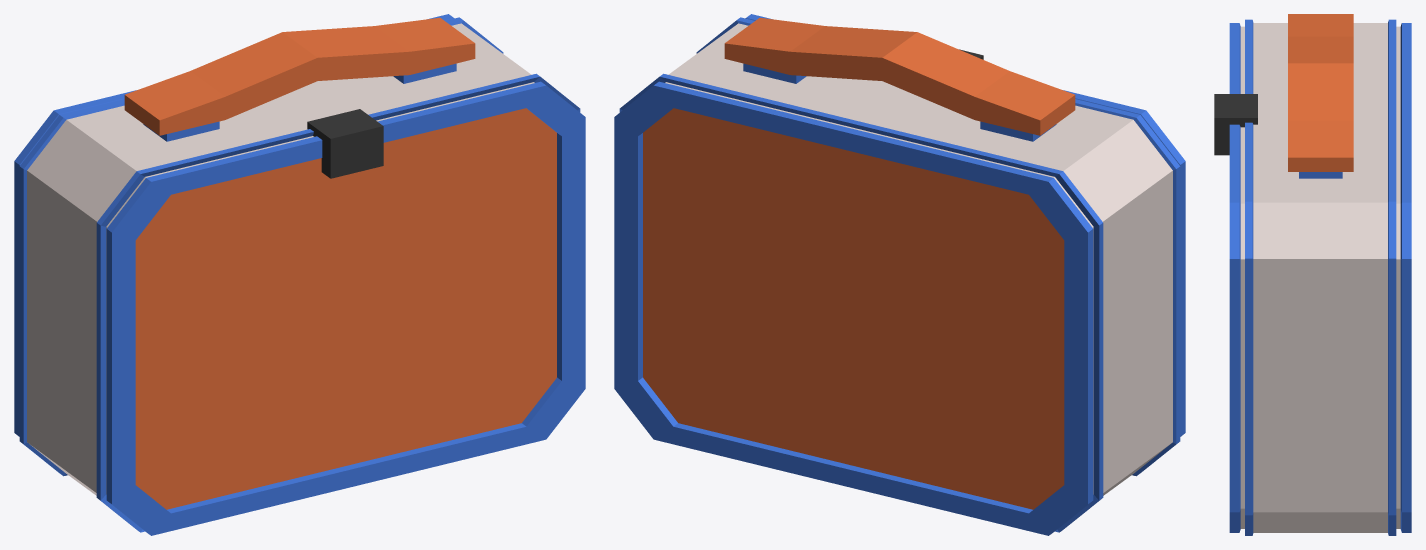
The model's file is lunchbox.fbx.
The picture shows the model from 3 angles, left to right: view 1: azimuth 30°, elevation 25°; view 2: azimuth 150°, elevation 25°; view 3: azimuth 270°, elevation 25°; orthographic projection. The views are drawn at different scales.
Visible parts, largest first — view 1: Cube, Cube.003, Cube.004; view 2: Cube, Cube.003; view 3: Cube, Cube.003, Cube.004, Cube.001.
Boxes of the visible parts, x1,y1,x2,y2 form: Cube: [14, 14, 585, 535]; Cube.003: [124, 17, 475, 135]; Cube.004: [307, 109, 383, 178]; Cube: [614, 14, 1185, 535]; Cube.003: [724, 17, 1075, 135]; Cube: [1229, 19, 1411, 535]; Cube.003: [1288, 14, 1353, 171]; Cube.004: [1214, 94, 1257, 155]; Cube.001: [1299, 172, 1342, 178].
Size of the model in its own units: 283 by 231 by 108.
